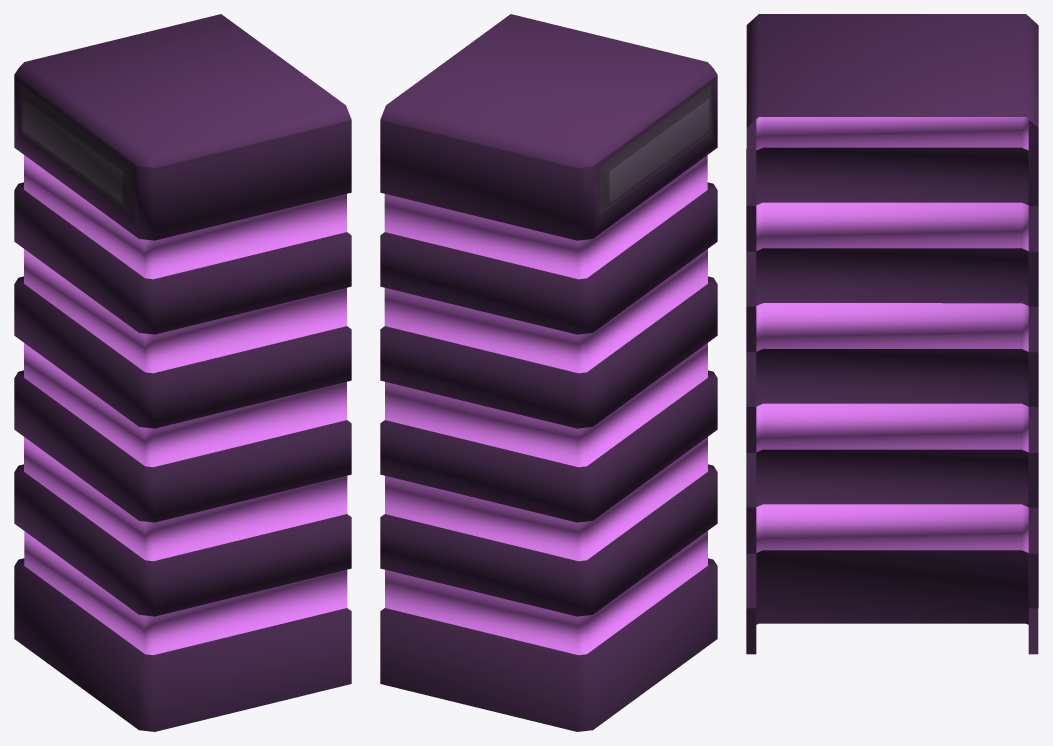
Rendered from portalLoading.glb.
3 renders of one model, left to right at view 1: azimuth 30°, elevation 25°; view 2: azimuth 150°, elevation 25°; view 3: azimuth 270°, elevation 25°, orthographic. The views are drawn at different scales.
Parts seen in each view (by area): view 1: portalLoading; view 2: portalLoading; view 3: portalLoading.
Boxes of the visible parts, x1,y1,x2,y2 form: portalLoading: (14,14,351,731); portalLoading: (380,14,717,731); portalLoading: (746,14,1038,654).
Size of the model in its own units: 0.718 by 1.87 by 0.8035.
1 material, 1 textured.
